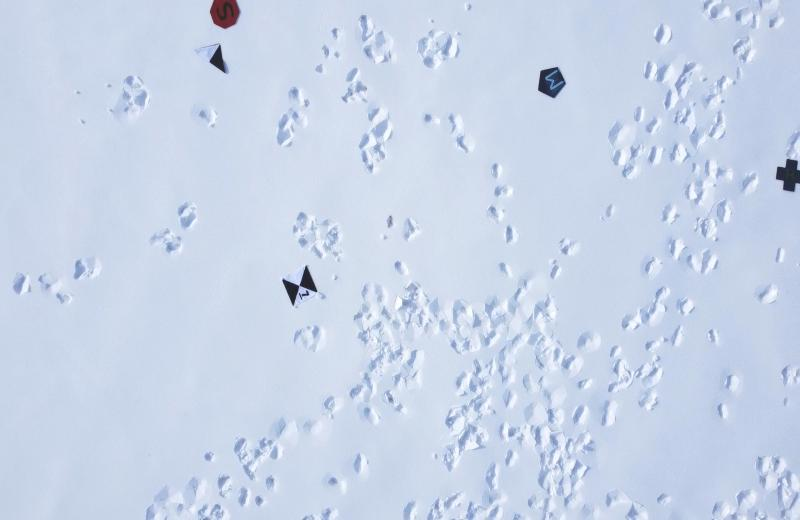Cross: (772, 154, 800, 193)
Octagon: (207, 0, 246, 30)
Pentagon: (533, 64, 568, 101)
